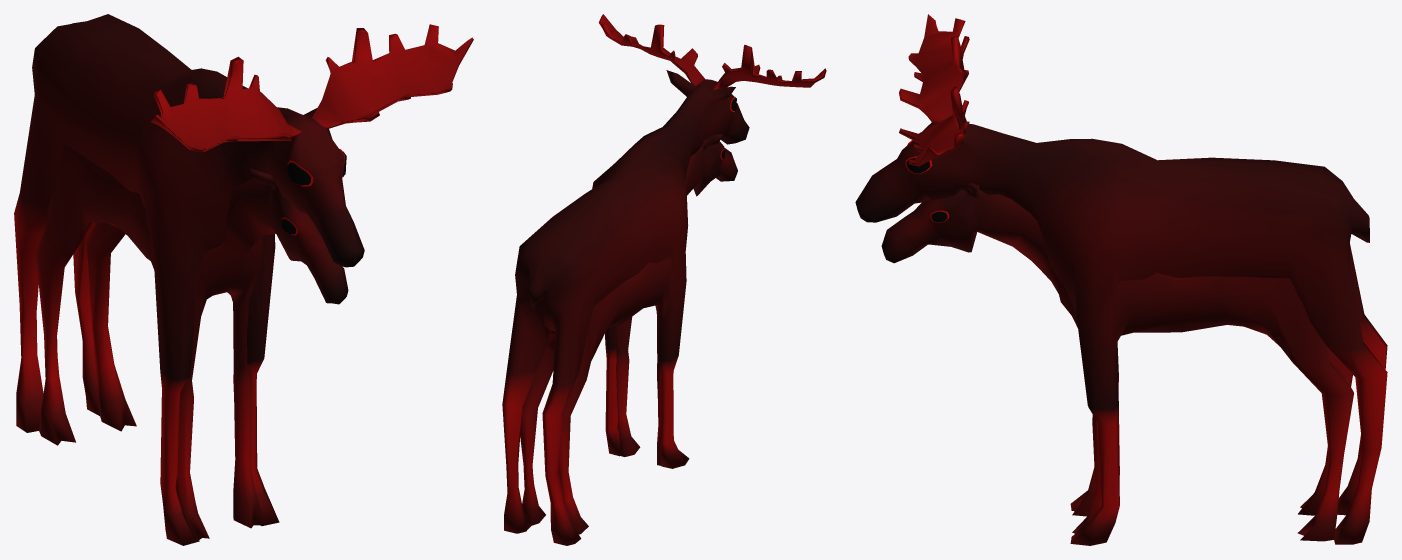
Rendered from Animals_Moose.fbx.
The picture shows the model from 3 angles, left to right: view 1: azimuth 30°, elevation 25°; view 2: azimuth 150°, elevation 25°; view 3: azimuth 270°, elevation 25°; orthographic projection. The views are drawn at different scales.
Parts seen in each view (by area): view 1: alt598, alt599; view 2: alt598, alt599; view 3: alt598, alt599.
Part boxes in pixels (<box>): alt598: <box>14,14,473,545</box>; alt599: <box>35,144,348,542</box>; alt598: <box>502,14,826,545</box>; alt599: <box>520,133,737,534</box>; alt598: <box>855,14,1387,545</box>; alt599: <box>881,183,1353,541</box>.
Size of the model in its own units: 151 by 243 by 254.
